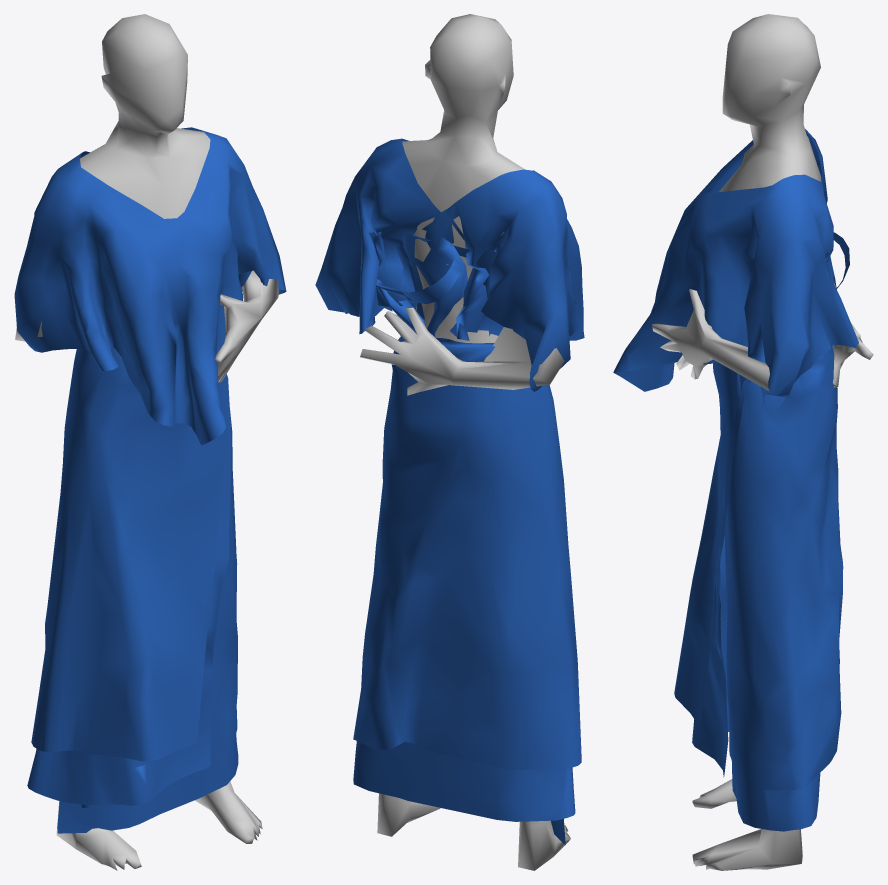
Rendered from personaA0.obj.
3 renders of one model, left to right at view 1: azimuth 30°, elevation 25°; view 2: azimuth 150°, elevation 25°; view 3: azimuth 270°, elevation 25°, orthographic. The views are drawn at different scales.
Visible parts, largest first — view 1: TrajeTipico, Maniqui; view 2: TrajeTipico, Maniqui; view 3: TrajeTipico, Maniqui.
Part boxes in pixels (x1,y1,x2,y2): TrajeTipico: (14, 127, 286, 833); Maniqui: (15, 14, 278, 870); TrajeTipico: (315, 138, 584, 844); Maniqui: (360, 14, 570, 870); TrajeTipico: (613, 129, 858, 831); Maniqui: (652, 14, 873, 870).
Bounding box in the file's own units: 59.6 × 183 × 53.05.
